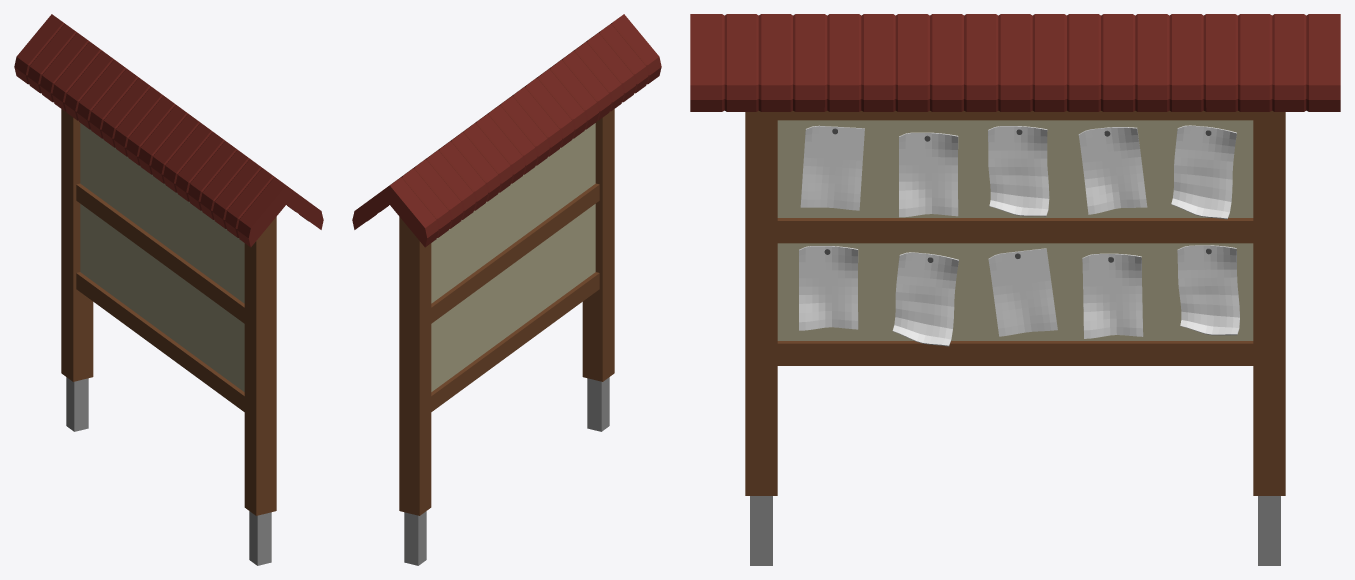
Rendered from tablica.fbx.
3 renders of one model, left to right at view 1: azimuth 30°, elevation 25°; view 2: azimuth 150°, elevation 25°; view 3: azimuth 270°, elevation 25°, orthographic. The views are drawn at different scales.
Parts seen in each view (by area): view 1: Cube, Cube.001; view 2: Cube, Cube.001; view 3: Cube, Cube.001, Plane.
Part boxes in pixels (box(x1,y1,x2,y2)): Cube: box(61, 109, 276, 565); Cube.001: box(14, 14, 323, 247); Cube: box(399, 109, 614, 565); Cube.001: box(352, 14, 661, 247); Cube: box(745, 110, 1285, 565); Cube.001: box(690, 14, 1340, 111); Plane: box(799, 125, 1239, 346).
Size of the model in its own units: 212 by 1068 by 1150.
